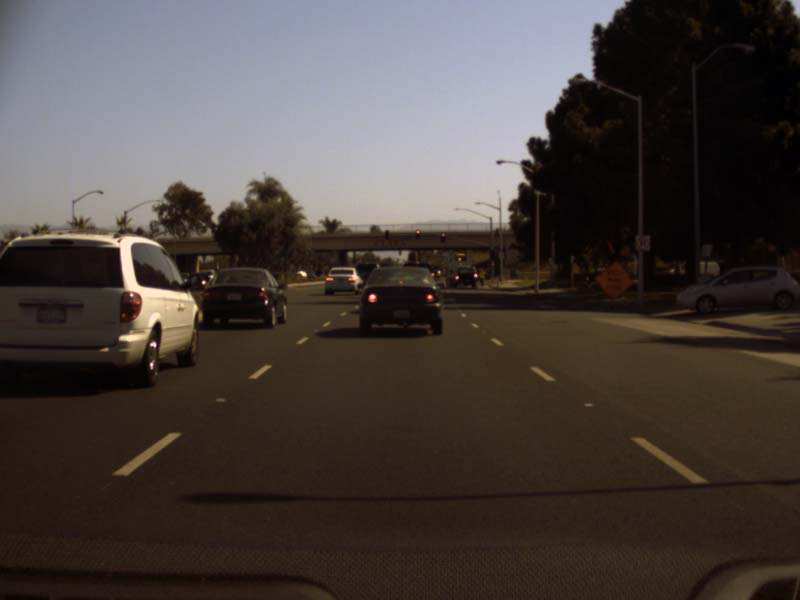Red: (440, 231, 445, 242), (415, 229, 419, 239)
Yellow: (489, 256, 494, 266)
